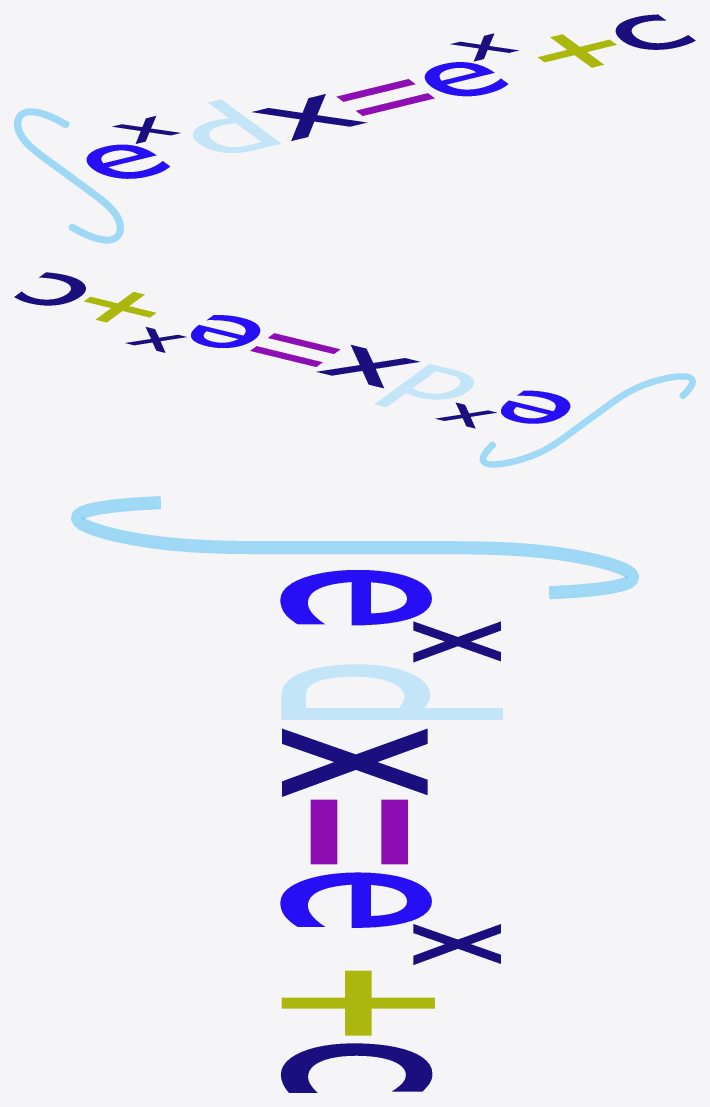
Rendered from intelax.glb.
3 views of the same model, one above another, from view 1: azimuth 30°, elevation 25°; view 2: azimuth 150°, elevation 25°; view 3: azimuth 270°, elevation 25° (orthographic). The views are drawn at different scales.
Visible parts, largest first — view 1: int din e la x dx; view 2: int din e la x dx; view 3: int din e la x dx.
Boxes of the visible parts, <box> form: int din e la x dx: <box>14,14,695,243</box>; int din e la x dx: <box>14,272,695,467</box>; int din e la x dx: <box>71,496,638,1092</box>.
Bounding box in the file's own units: 4.32 × 0.0401 × 1.75.
